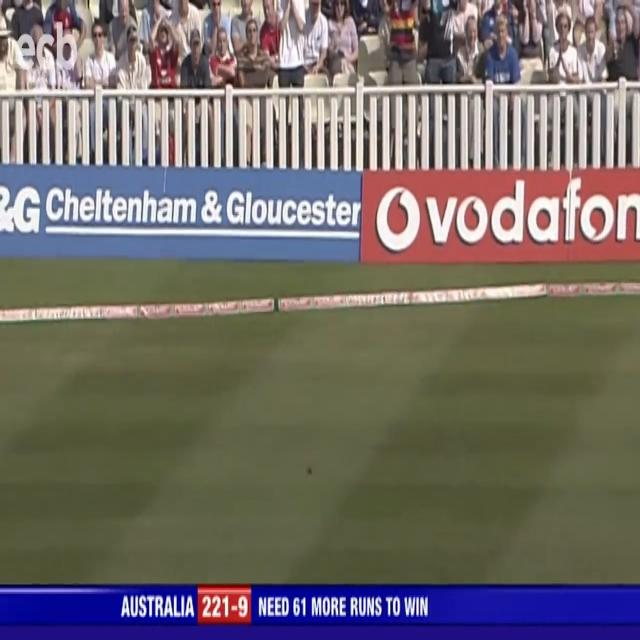ball: (303, 464, 316, 481)
